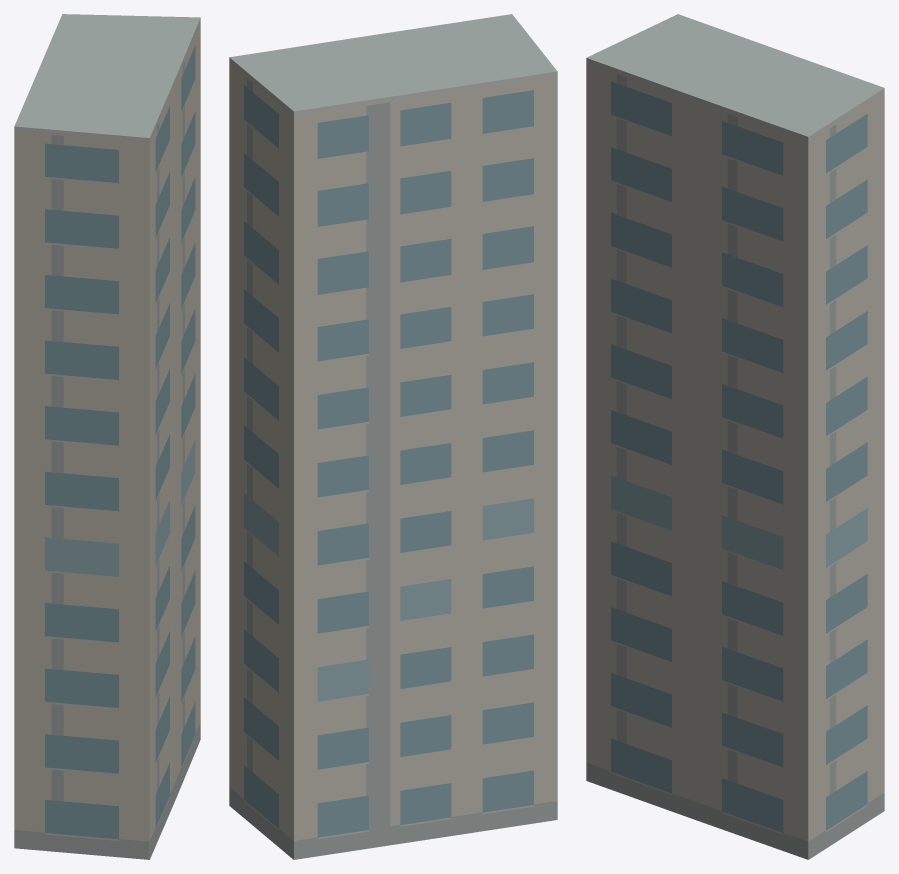
File: survey-upis-32666108.glb
3 renders of one model, left to right at view 1: azimuth 30°, elevation 25°; view 2: azimuth 150°, elevation 25°; view 3: azimuth 270°, elevation 25°, orthographic. The views are drawn at different scales.
Visible parts, largest first — view 1: survey-upis-32666108.tmp; view 2: survey-upis-32666108.tmp; view 3: survey-upis-32666108.tmp.
Boxes of the visible parts, left/top/right/bottom form: survey-upis-32666108.tmp: left=14, top=14, right=200, bottom=859; survey-upis-32666108.tmp: left=229, top=14, right=557, bottom=859; survey-upis-32666108.tmp: left=586, top=14, right=884, bottom=859.
Size of the model in its own units: 12.24 by 33.55 by 12.56.
